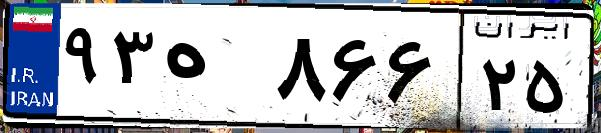2: (475, 38, 525, 113)
3: (110, 28, 158, 98)
5: (525, 38, 570, 115)
6: (385, 28, 445, 110), (330, 28, 385, 110)
8: (270, 28, 330, 110)
9: (57, 26, 110, 100)
ه: (158, 20, 270, 120)
